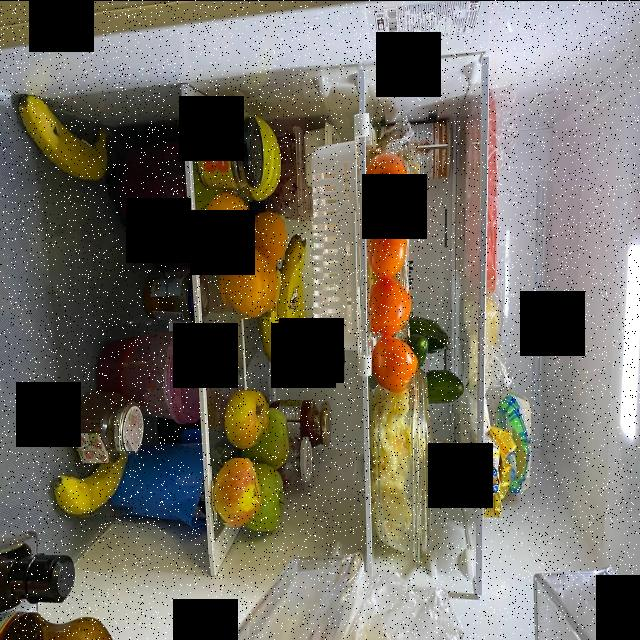Apple: (210, 458, 259, 524), (227, 392, 269, 446), (255, 456, 283, 536), (263, 410, 286, 464)
Banana: (17, 84, 115, 184), (263, 234, 324, 372), (53, 452, 135, 522)
Cucumber: (429, 359, 467, 414), (408, 310, 451, 354), (410, 334, 430, 364)
Orange: (219, 242, 271, 320), (206, 194, 253, 260), (253, 209, 285, 263), (261, 252, 276, 312)
Tomato: (367, 152, 409, 222), (378, 325, 420, 391), (372, 213, 409, 279), (371, 279, 409, 337)
